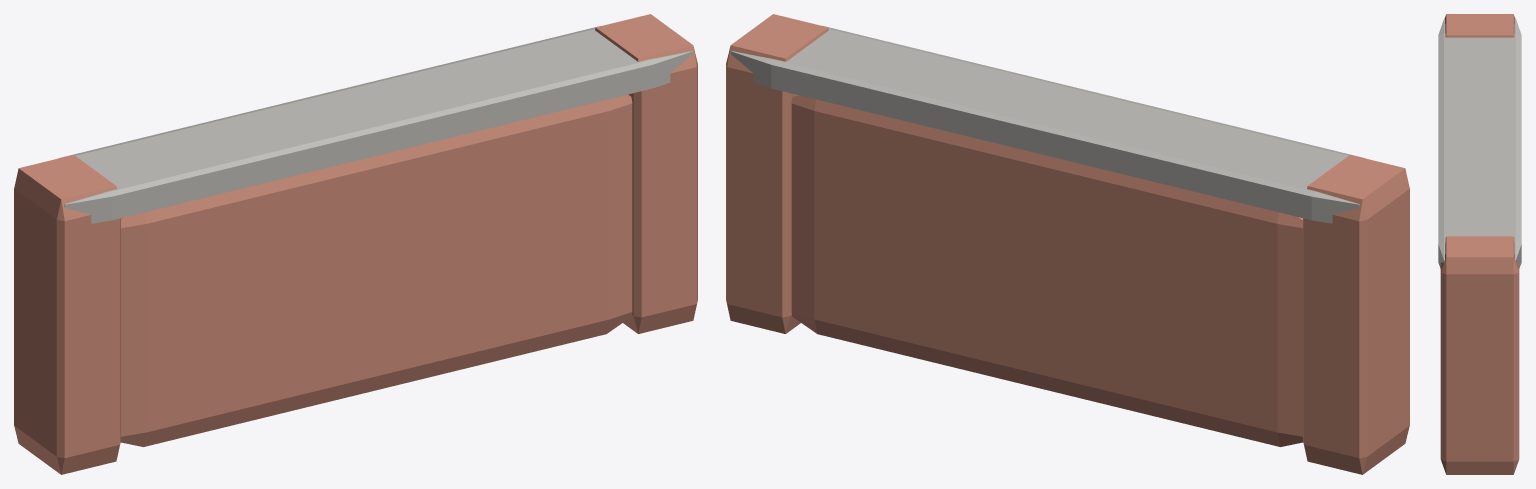
Rendered from b19_capped_brick_boundary_wall.glb.
3 views of the same model, side by side, from view 1: azimuth 30°, elevation 25°; view 2: azimuth 150°, elevation 25°; view 3: azimuth 270°, elevation 25° (orthographic). The views are drawn at different scales.
Parts seen in each view (by area): view 1: b19_capped_brick_boundary_wall; view 2: b19_capped_brick_boundary_wall; view 3: b19_capped_brick_boundary_wall.
Part boxes in pixels (x1=…): b19_capped_brick_boundary_wall: x1=14, y1=14, x2=697, y2=474; b19_capped_brick_boundary_wall: x1=726, y1=14, x2=1409, y2=474; b19_capped_brick_boundary_wall: x1=1438, y1=14, x2=1521, y2=474.
Size of the model in its own units: 3.36 by 1.38 by 0.48.
